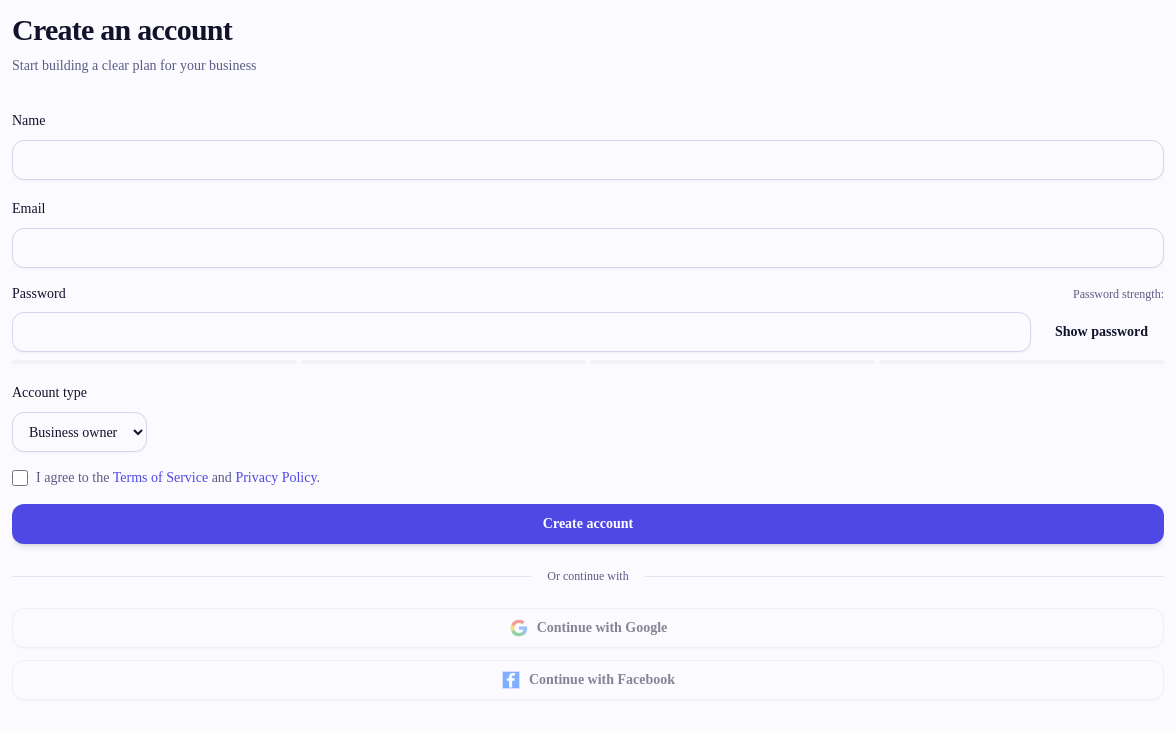
Test: signup form › toggles password visibility and enforces terms before social sign-in
Expected: the button "Continue with Google" is disabled, [12,608,1164,648]
Click the button "Show password".
click(1102, 332)  # box [1039,312,1164,352]
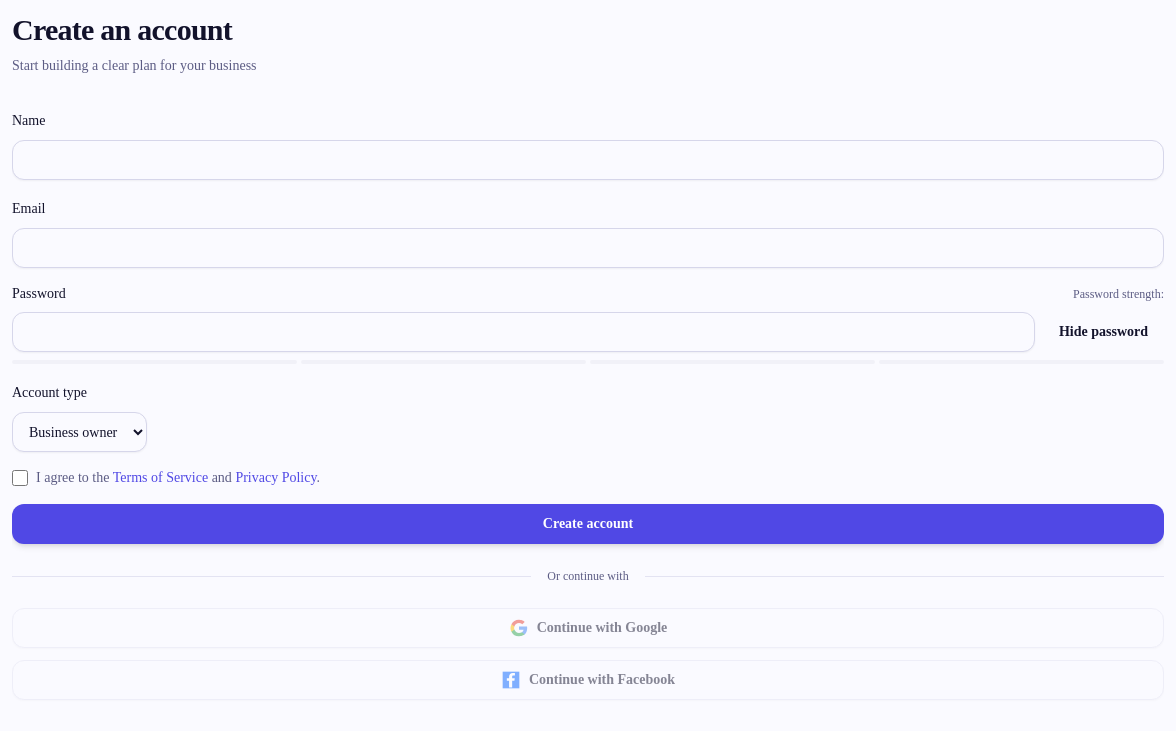
Click the checkbox labelled "I agree to the Terms of Service and Privacy Policy .".
click(20, 478)  # box [12,470,28,486]
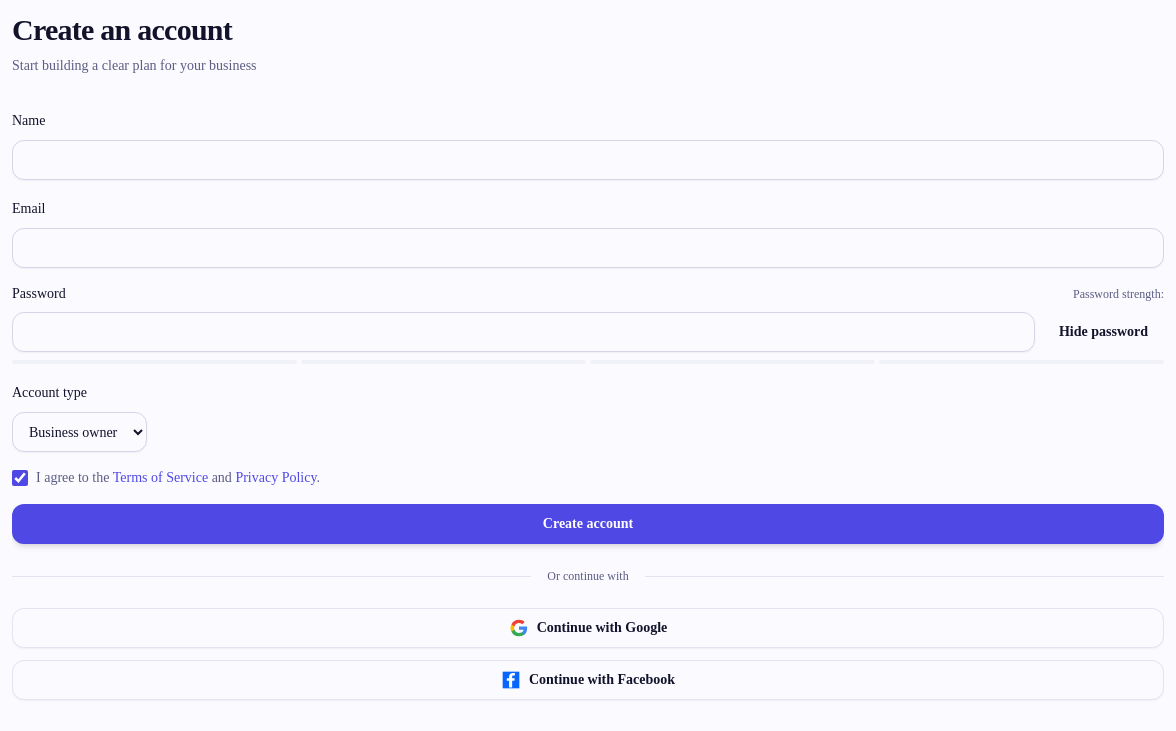
Expected: the button "Continue with Google" is enabled, [12,608,1164,648]
